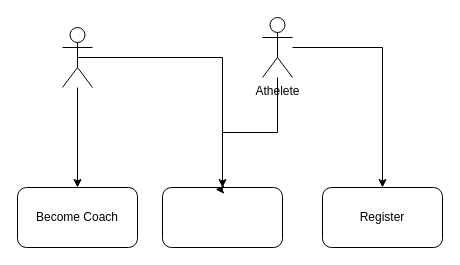
The diagram is 460 pixels wide and 265 high, and some of its shapes have lost their labels. The shapes that lost their labels are listed below. From the top down, each one's centre as x and y in pixels, then its label:
the point at 77,57: Coach
the point at 222,217: Login
